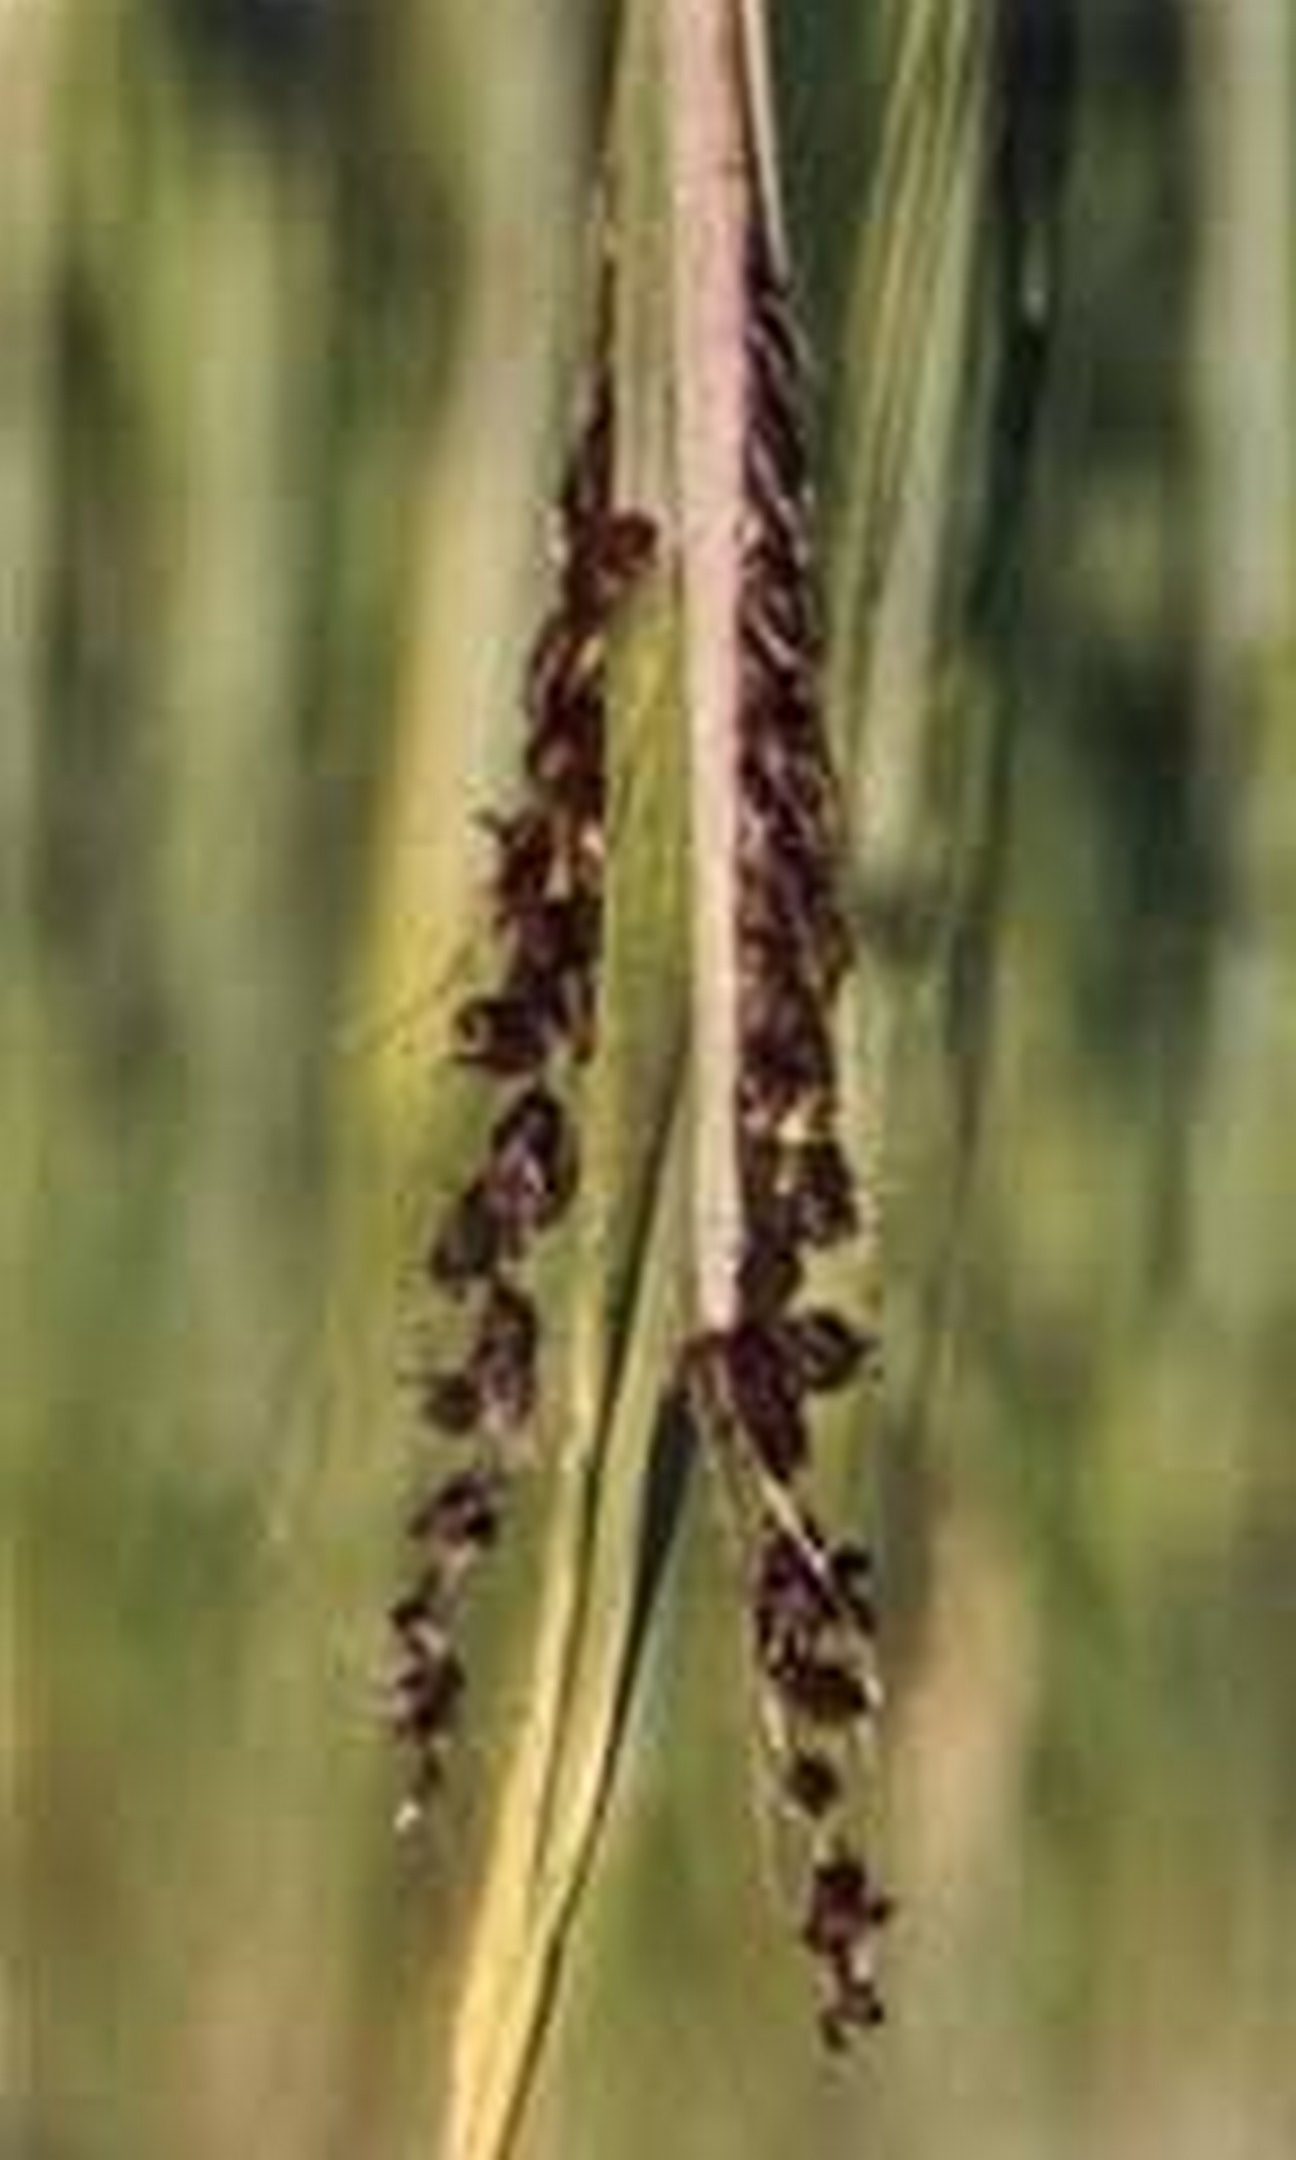Wheat Loose Smut: (389, 349, 997, 2074)
